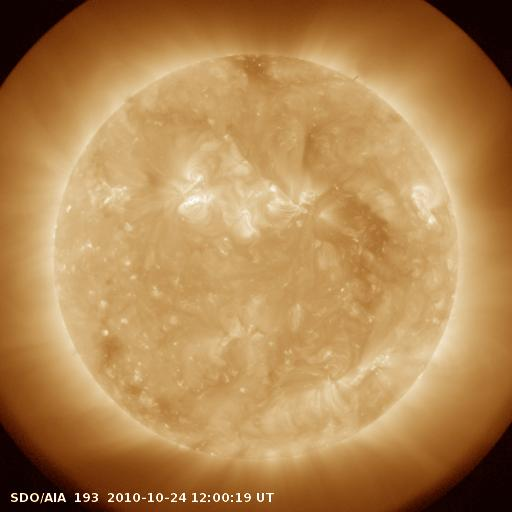coronal_hole: (317, 179, 402, 311)
